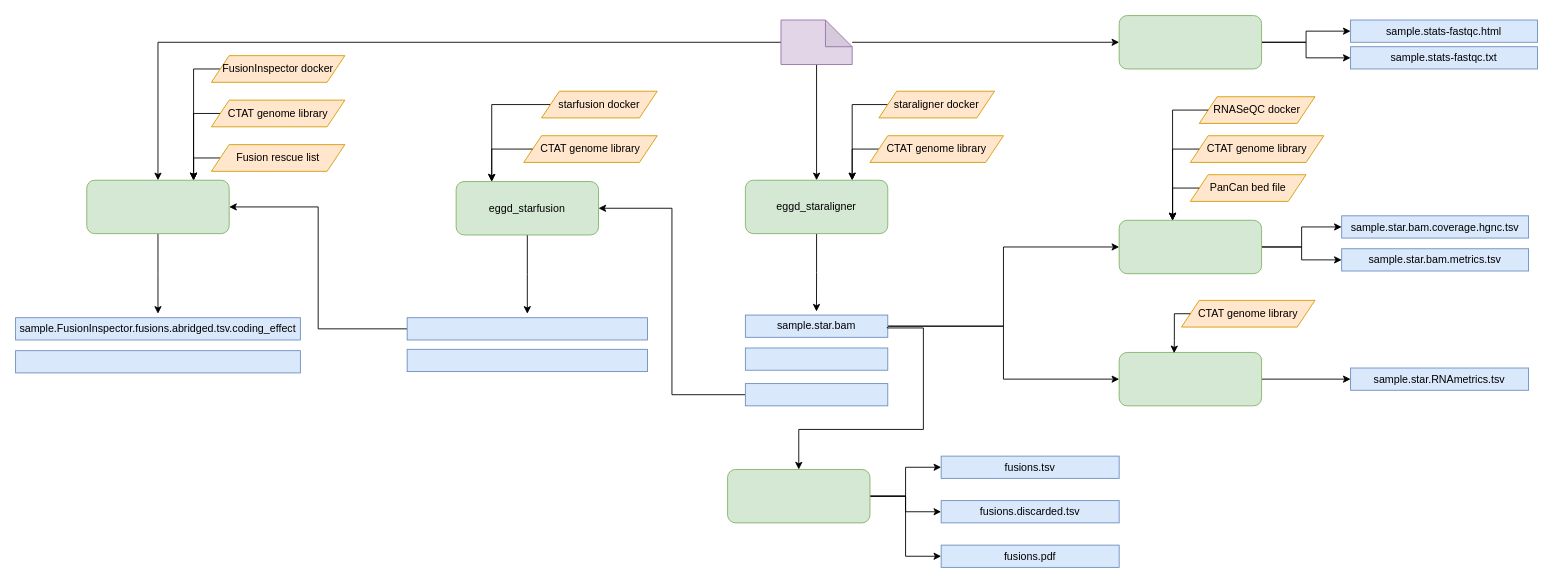
This 1553x583 diagram has some shape labels left out. The shapes that lost their labels are listed below. From the top down, each one's centre as x and y in pixels, then its label:
At point (816, 42): "fastqs".
At point (1190, 42): "eggd_fastqc".
At point (157, 206): "eggd_fusioninspector".
At point (1190, 246): "eggd_RNASeQC".
At point (526, 328): "sample.star-fusion.fusion_predictions.tsv".
At point (157, 361): "sample.fusion_inspector_web.html".
At point (526, 360): "sample.star-fusion.fusion_predictions.abridged.tsv".
At point (816, 358): "sample.star.bam.bai".
At point (816, 394): "sample.chimeric.out.junction".
At point (1190, 379): "eggd_picard_QC".
At point (798, 496): "eggd_arriba".
